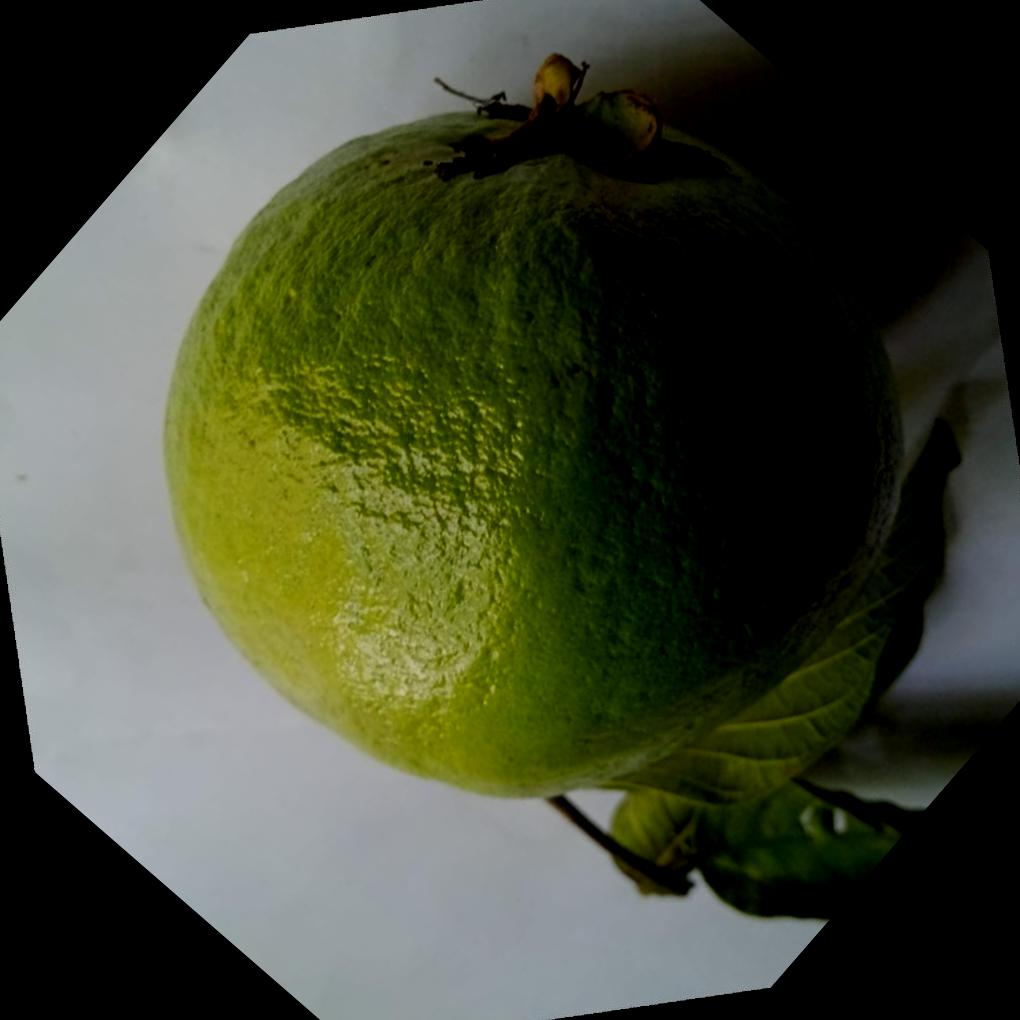FreshGuava: (160, 52, 917, 799)
